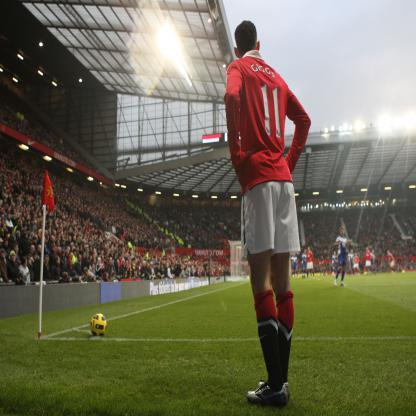corner kick: (24, 139, 124, 384)
